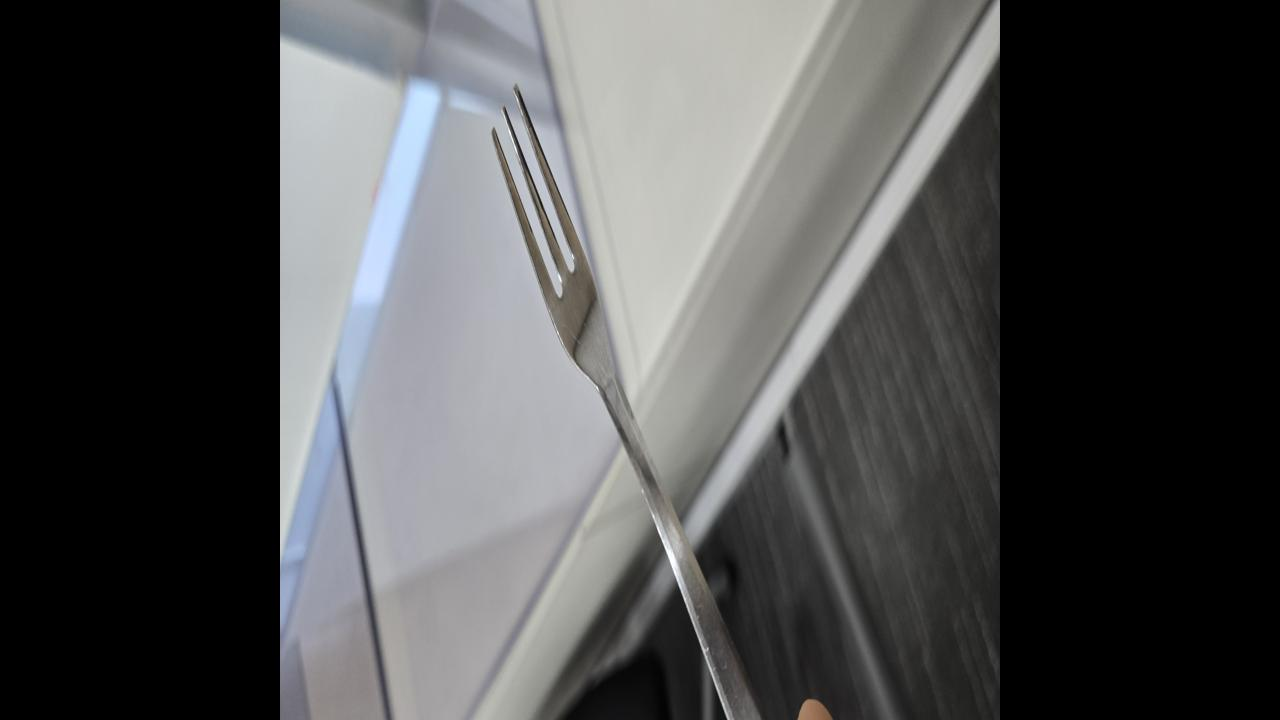fork: (492, 80, 828, 720)
